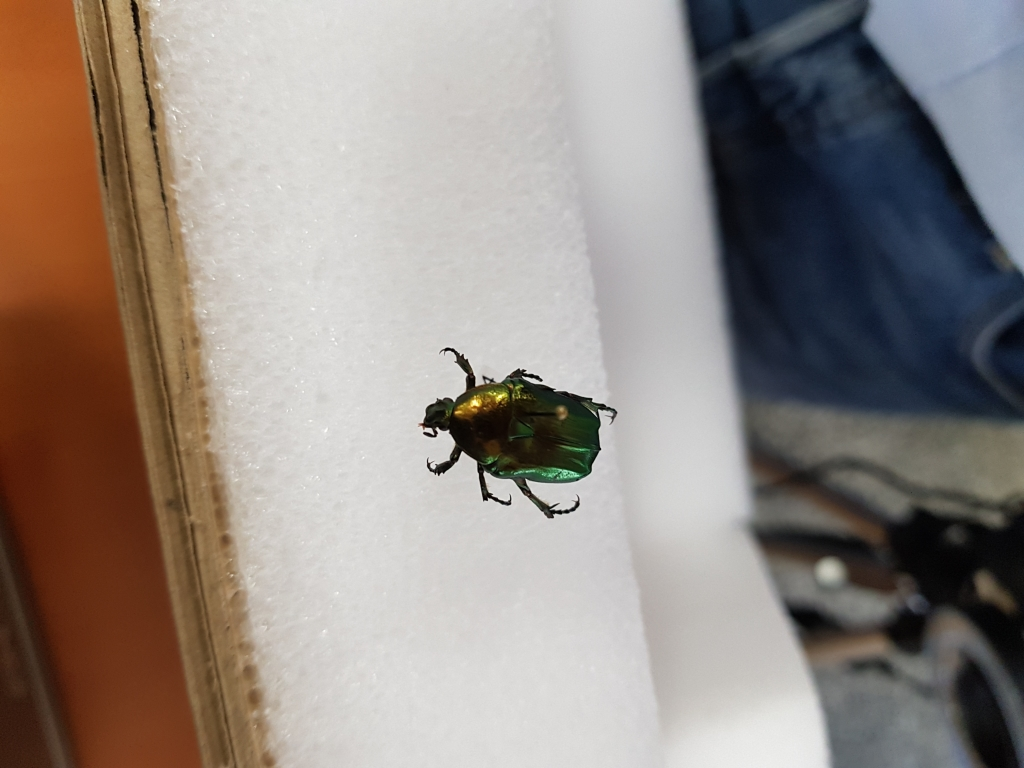Cetonia_aurata: (410, 334, 623, 526)
